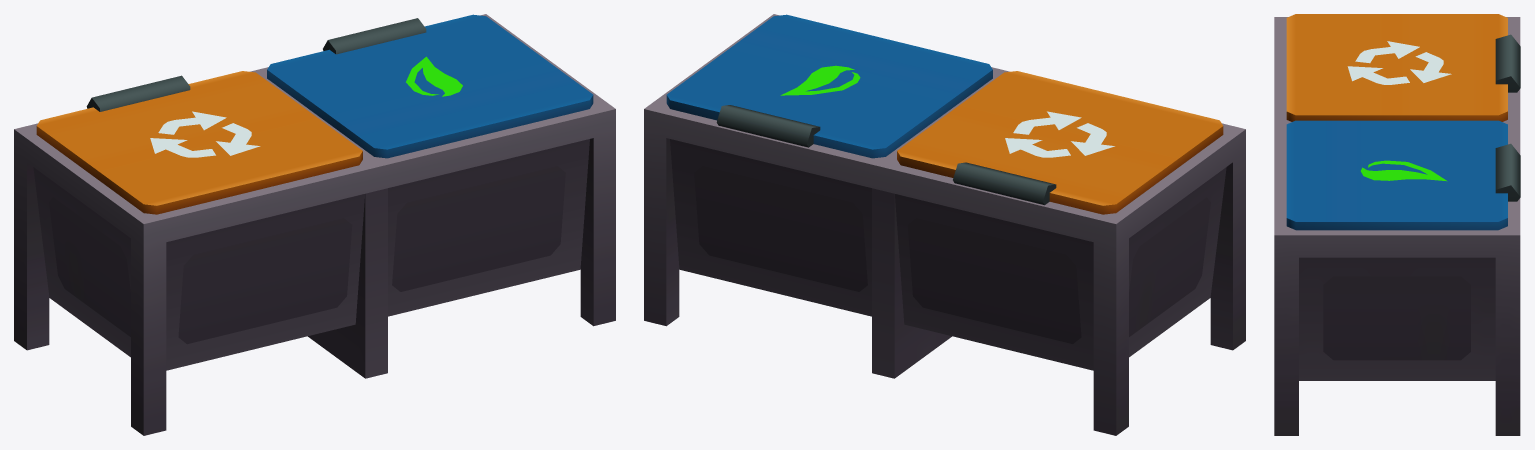
The model's file is Trash_Container_2B.fbx.
3 renders of one model, left to right at view 1: azimuth 30°, elevation 25°; view 2: azimuth 150°, elevation 25°; view 3: azimuth 270°, elevation 25°, orthographic. The views are drawn at different scales.
Parts seen in each view (by area): view 1: Trash_Container_2B; view 2: Trash_Container_2B; view 3: Trash_Container_2B.
Part boxes in pixels (bbox=[...]): Trash_Container_2B: bbox=[14, 14, 615, 435]; Trash_Container_2B: bbox=[644, 14, 1245, 435]; Trash_Container_2B: bbox=[1274, 14, 1520, 435].
Size of the model in its own units: 128 by 59.35 by 61.1.
